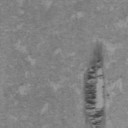oxide scale of plate system: (82, 40, 110, 128)
